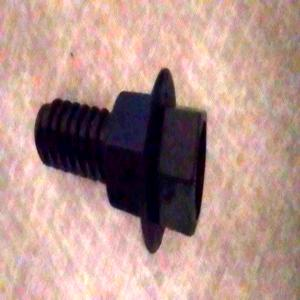parafuso: (34, 67, 206, 245)
